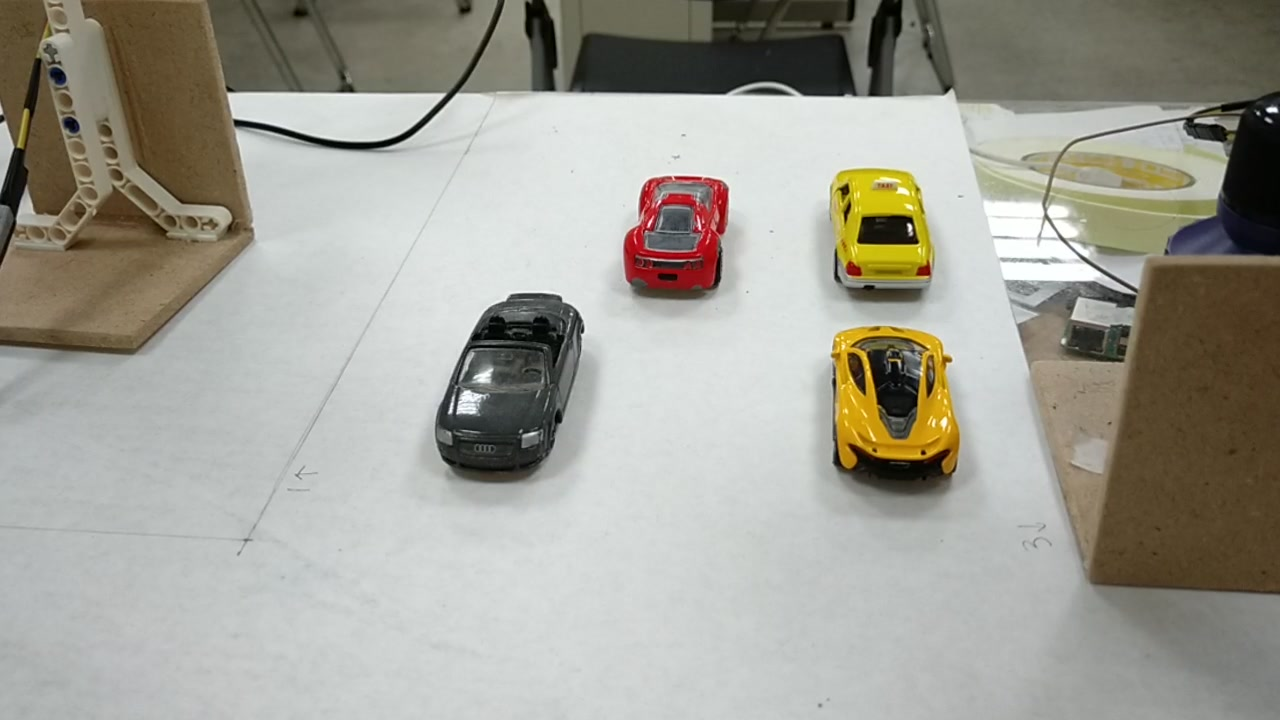car: (430, 291, 591, 464), (833, 320, 953, 472), (829, 165, 938, 289), (622, 178, 735, 289)
